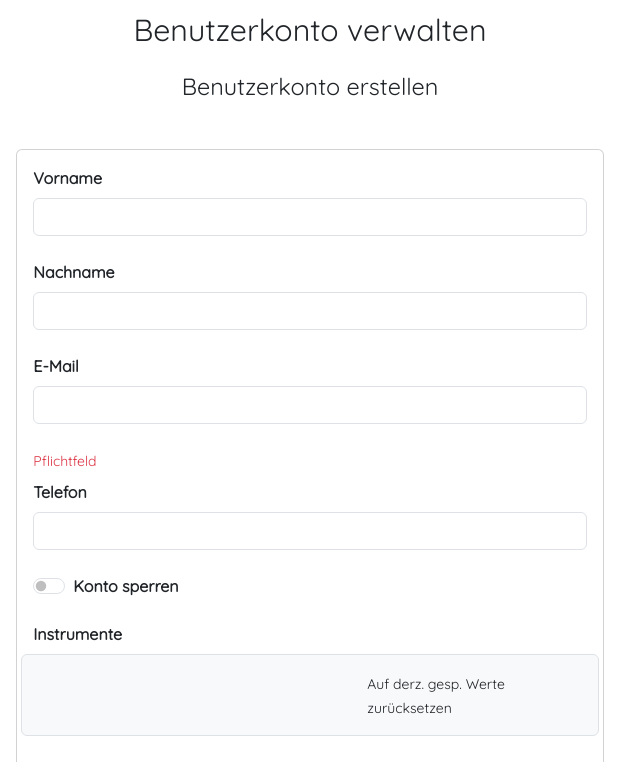
Test: UserFormView › shows "E-mail nicht verifiziert" once a value is typed without a saved verification
The width and height of the screenshot is (621, 762).
Type "margot@example.com" into the field with id "user-email".
click(310, 405); type("margot@example.com")  # box [33,386,587,424]
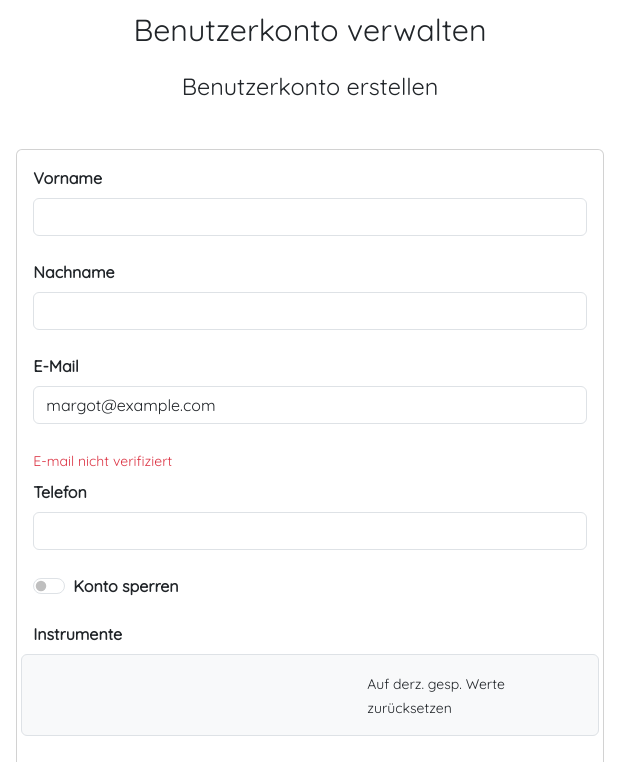
expect the text "E-mail nicht verifiziert" is shown: met, box [33,452,172,470]
